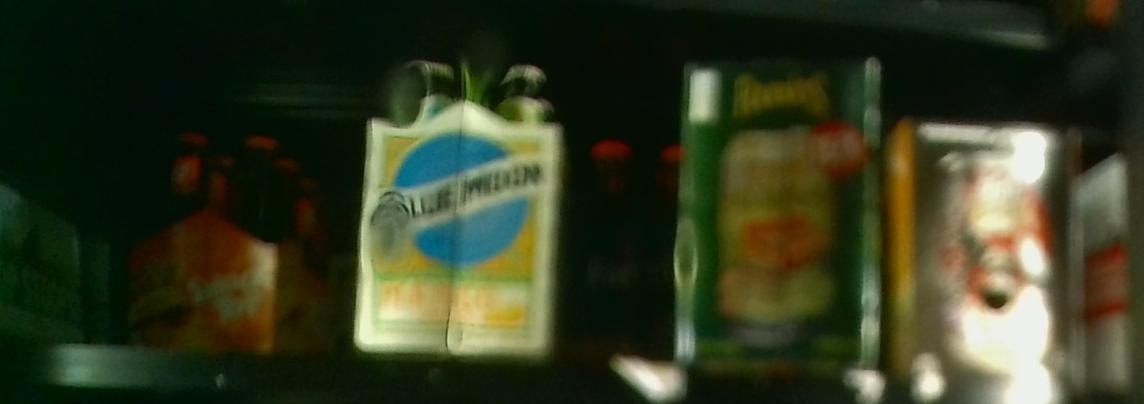bottle: (683, 58, 886, 371), (362, 49, 560, 355), (896, 112, 1088, 381), (124, 128, 335, 344), (587, 142, 639, 360)
